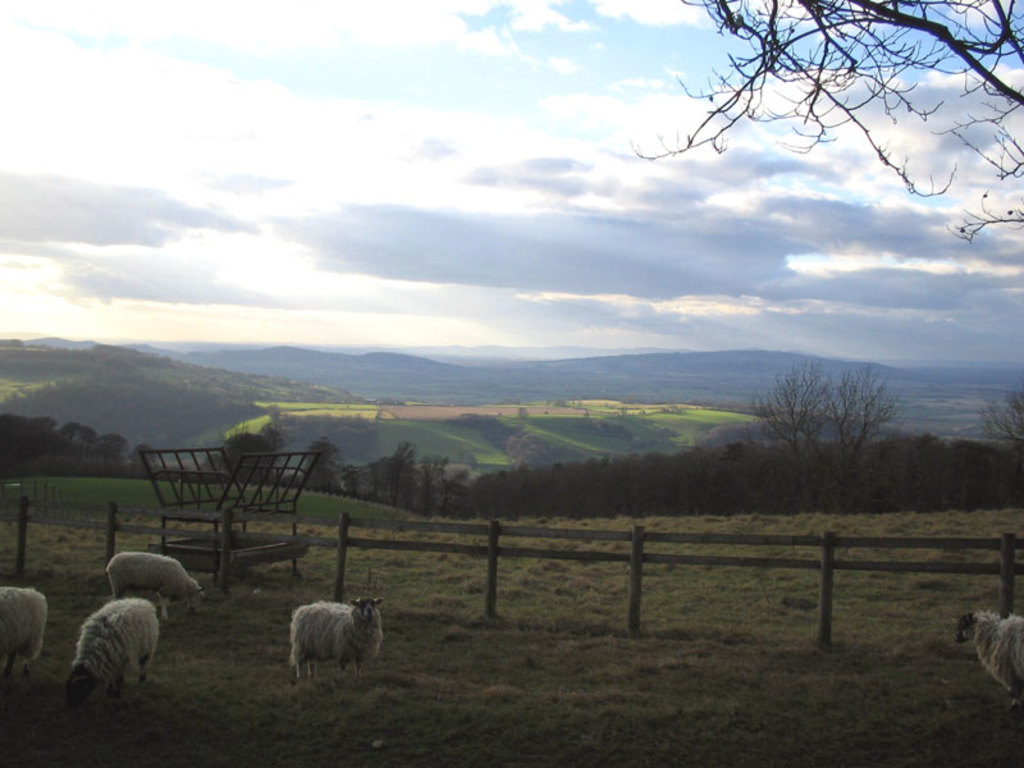sheep: (65, 597, 165, 702), (286, 599, 382, 683)
